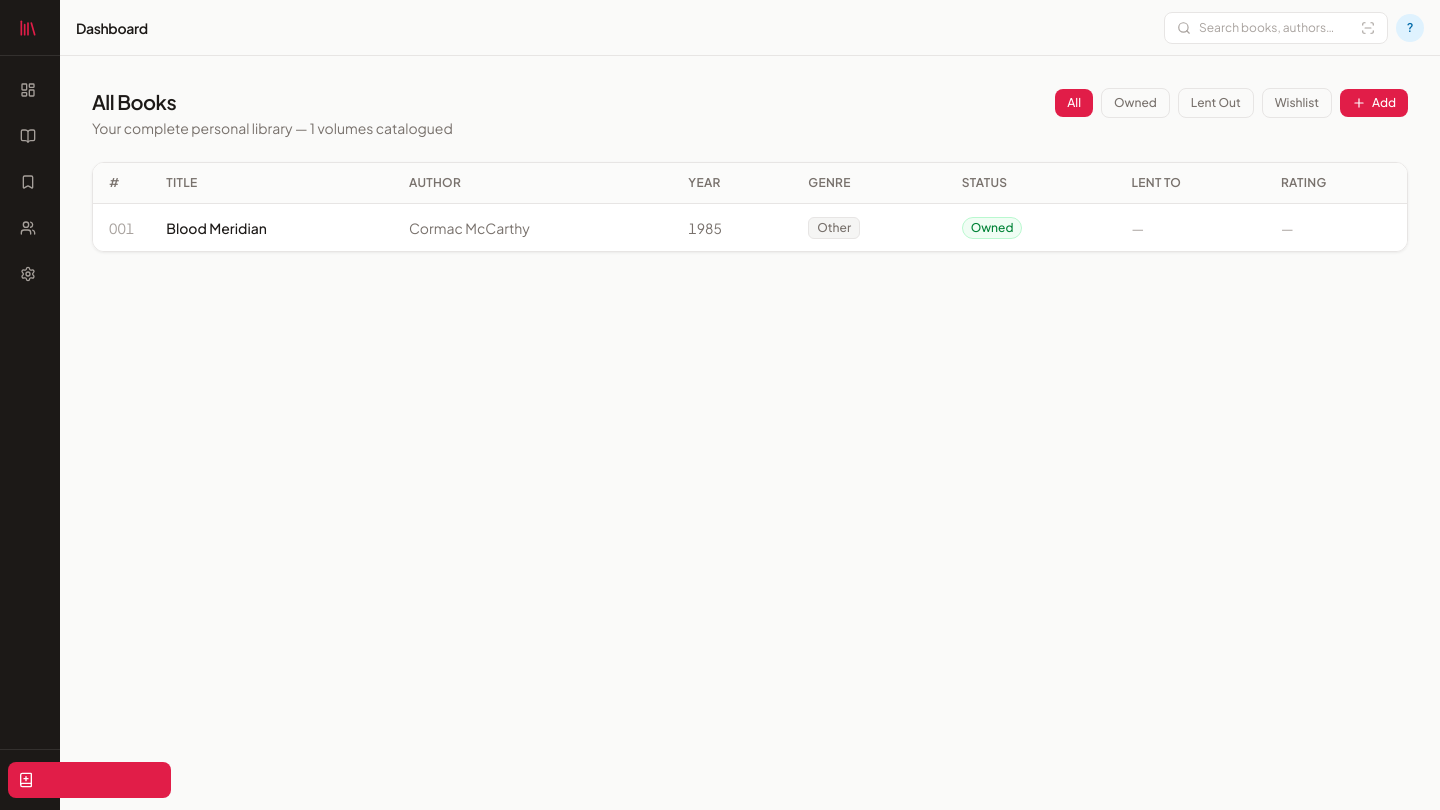
Test case: AppShell integration — delete flow › confirms, deletes, closes the modal, and removes the book from the list
Check: the text "Blood Meridian" is shown, box top-left (166, 218), bottom-right (267, 236)
Click the text "Blood Meridian". click: point(217, 228)
box: top-left (93, 204), bottom-right (1407, 251)
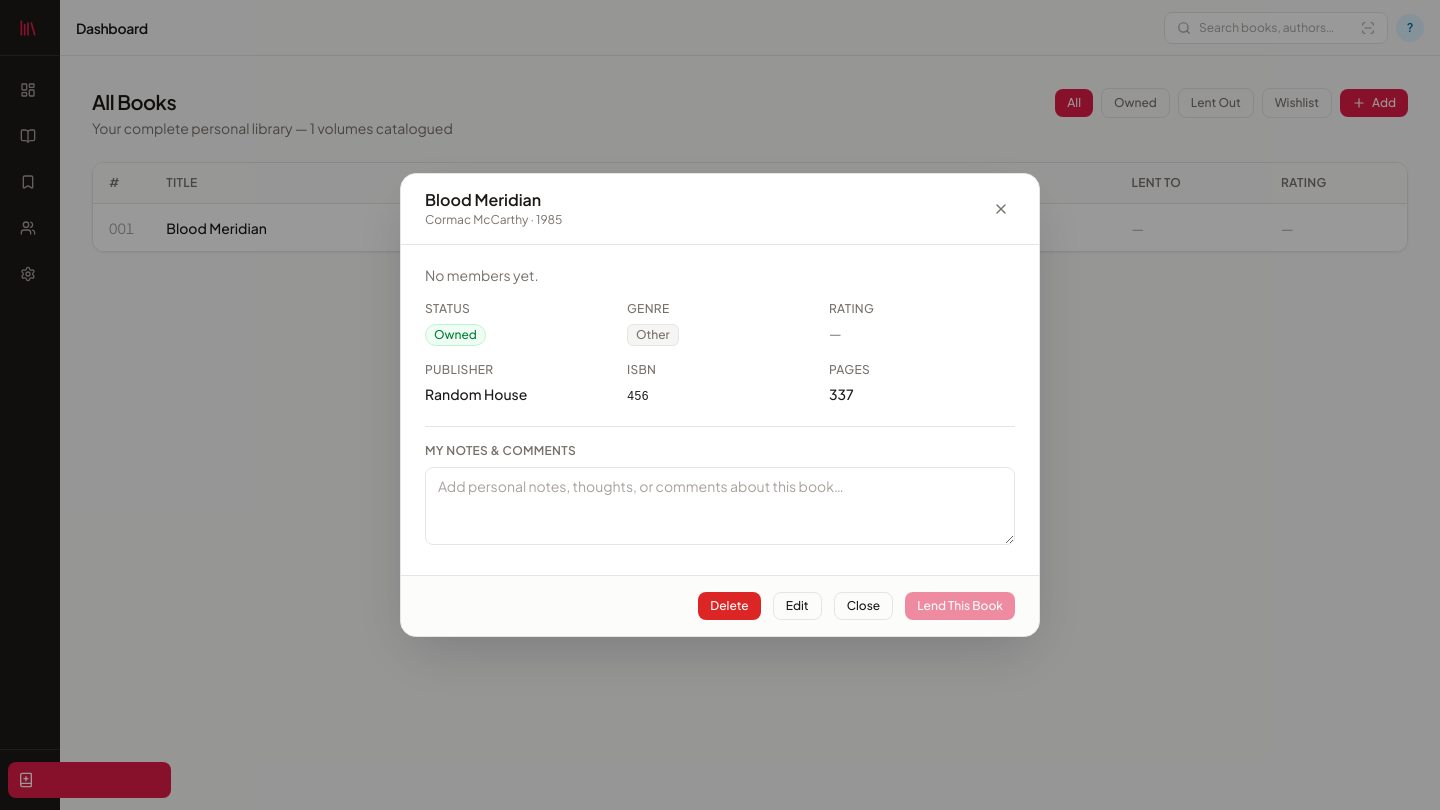
Check: the element with test id "book-detail-modal" is shown, box top-left (400, 173), bottom-right (1040, 637)
// First click asks for confirmation, second click performs the delete.
Click the button "Delete". click: point(730, 606)
box: top-left (698, 592), bottom-right (761, 620)
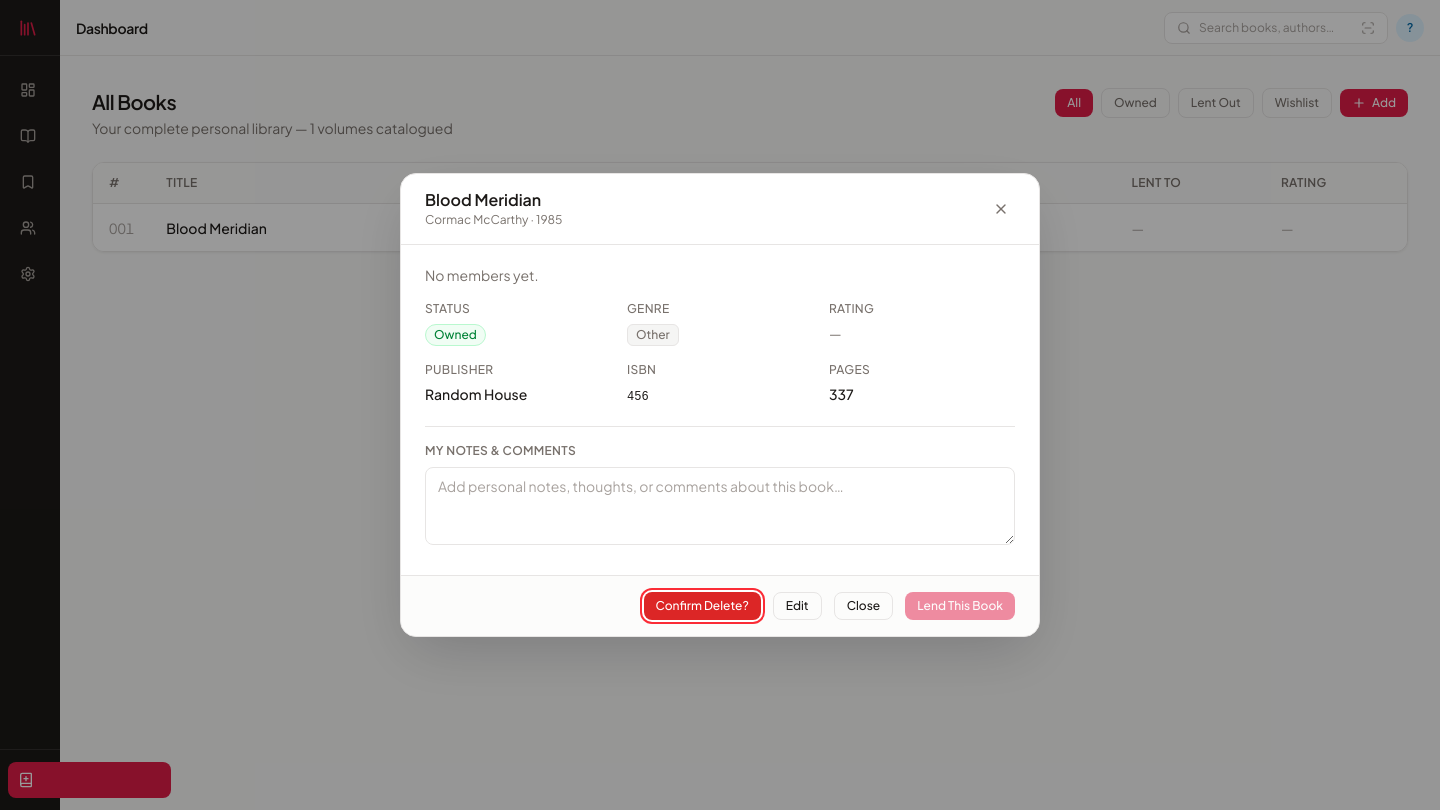
Click the button "Confirm Delete?". click: point(702, 606)
box: top-left (644, 592), bottom-right (761, 620)
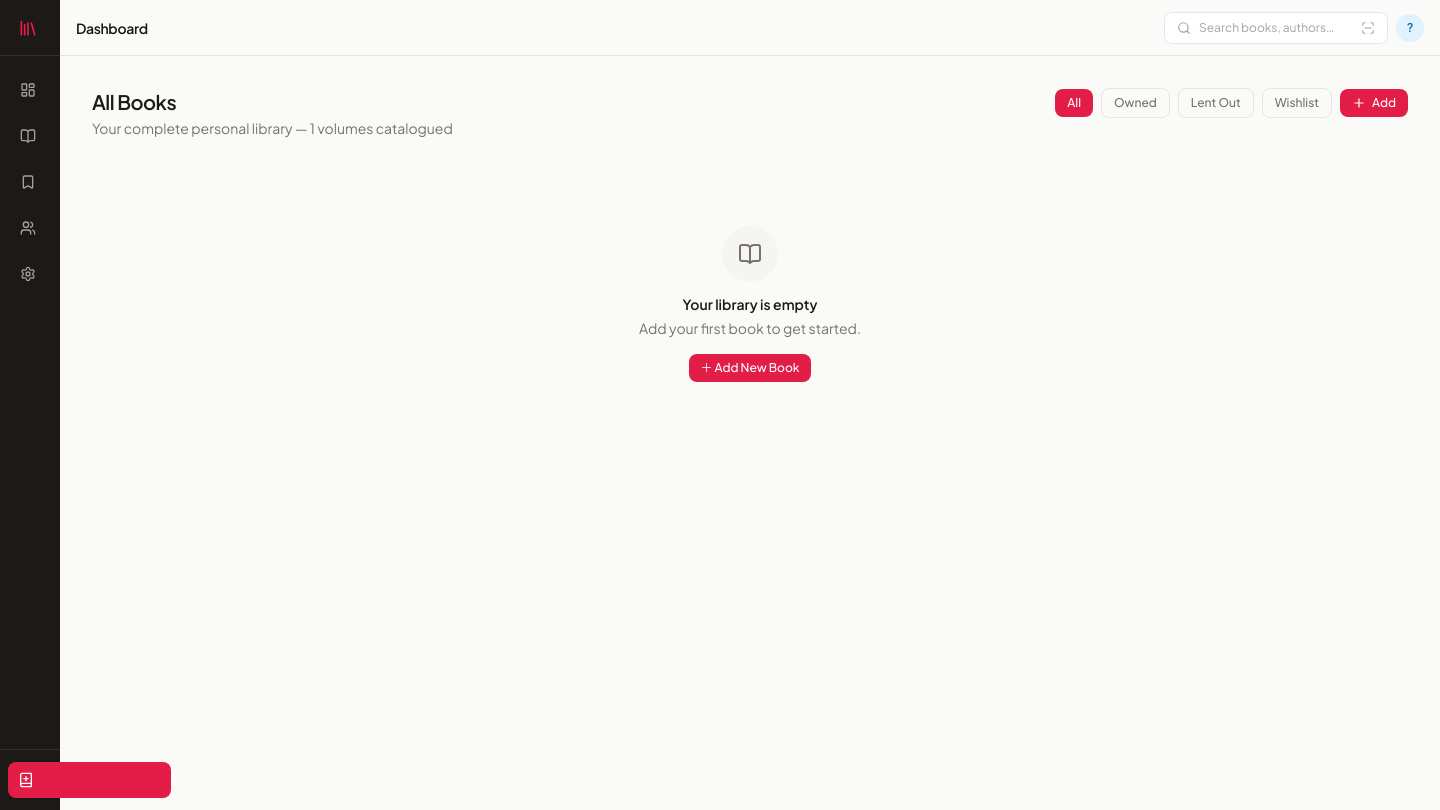
Check: the element with test id "book-detail-modal" is gone
Check: the text "Blood Meridian" is gone
